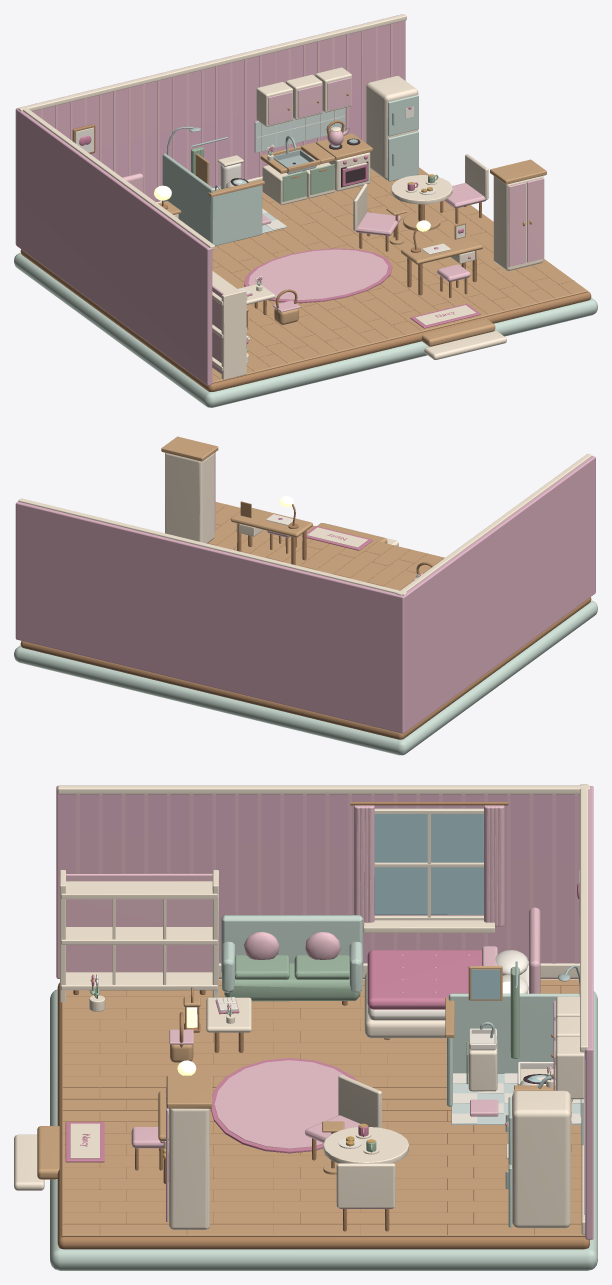
Rendered from studio-home.glb.
3 views of the same model, one above another, from view 1: azimuth 30°, elevation 25°; view 2: azimuth 150°, elevation 25°; view 3: azimuth 270°, elevation 25° (orthographic). The views are drawn at different scales.
Visible parts, largest first — view 1: Studio_Shell_Mesh, Studio_LeftWall_Mesh, Studio_BackWall_Mesh, Studio_Kitchen_Mesh, Studio_Bathroom_Mesh, Studio_UpperCabinets_Mesh, Studio_Rug_Mesh, Studio_Wardrobe_Mesh, Studio_Dining_Mesh, Studio_Shelf_Mesh, Studio_Entry_Mesh, Studio_Desk_Mesh (+3 smaller); view 2: Studio_BackWall_Mesh, Studio_LeftWall_Mesh, Studio_Shell_Mesh, Studio_Wardrobe_Mesh, Studio_Desk_Mesh, Studio_Entry_Mesh; view 3: Studio_Shell_Mesh, Studio_LeftWall_Mesh, Studio_Window_Mesh, Studio_Shelf_Mesh, Studio_Bathroom_Mesh, Studio_Sofa_Mesh, Studio_Bed_Mesh, Studio_Rug_Mesh, Studio_Kitchen_Mesh, Studio_Dining_Mesh, Studio_Wardrobe_Mesh, Studio_BackWall_Mesh (+5 smaller).
Boxes of the visible parts, x1,y1,x2,y2 form: Studio_Shell_Mesh: (14,167,597,407); Studio_LeftWall_Mesh: (16,106,214,385); Studio_BackWall_Mesh: (15,14,406,243); Studio_Kitchen_Mesh: (260,76,418,205); Studio_Bathroom_Mesh: (162,126,286,245); Studio_UpperCabinets_Mesh: (254,67,351,152); Studio_Rug_Mesh: (244,248,392,303); Studio_Wardrobe_Mesh: (490,159,546,270); Studio_Dining_Mesh: (353,154,488,251); Studio_Shelf_Mesh: (212,271,247,379); Studio_Entry_Mesh: (410,303,506,359); Studio_Desk_Mesh: (401,220,482,297); Studio_BackWall_Mesh: (15,498,406,733); Studio_LeftWall_Mesh: (397,453,595,733); Studio_Shell_Mesh: (14,502,597,755); Studio_Wardrobe_Mesh: (161,436,218,543); Studio_Desk_Mesh: (231,496,312,564); Studio_Entry_Mesh: (302,523,398,550); Studio_Shell_Mesh: (50,979,597,1270); Studio_LeftWall_Mesh: (56,785,589,978); Studio_Window_Mesh: (350,802,508,932); Studio_Shelf_Mesh: (60,870,218,1002); Studio_Bathroom_Mesh: (445,961,585,1124); Studio_Sofa_Mesh: (221,915,363,1005); Studio_Bed_Mesh: (364,907,540,1039); Studio_Rug_Mesh: (210,1058,356,1153); Studio_Kitchen_Mesh: (505,1076,571,1228); Studio_Dining_Mesh: (305,1074,408,1231); Studio_Wardrobe_Mesh: (163,1075,212,1229); Studio_BackWall_Mesh: (580,784,593,1239).
Bounding box in the file's own units: 12 × 4.72 × 11.08.
